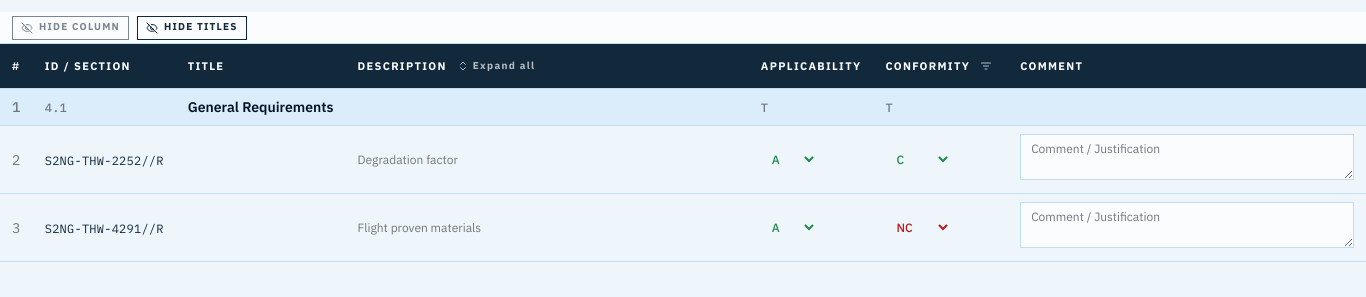
NodeTable › hides and shows the selected column
Expected: the text "S2NG-THW-2252//R" is shown, [45,152,164,168]
Expected: the button "Hide column" is disabled, [12,16,129,40]
Click the button "ID / Section" at (88,66), box [45,56,131,76]
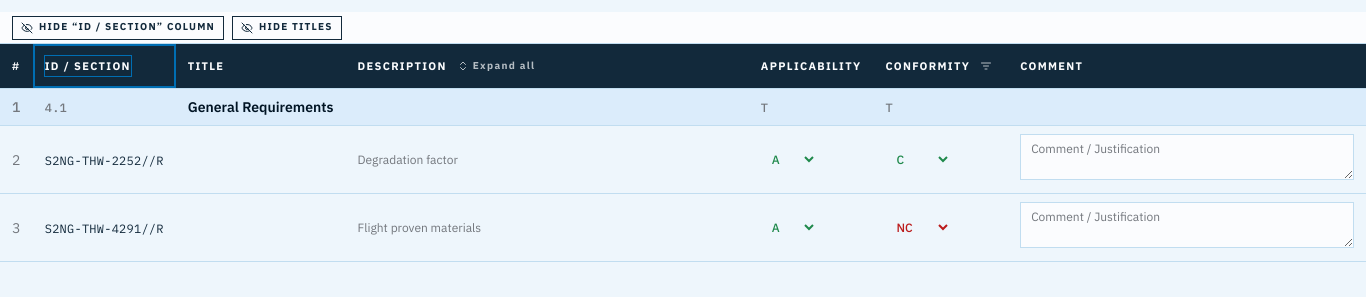
Click the button "Hide “ID / Section” column" at (118,28), box [12,16,224,40]
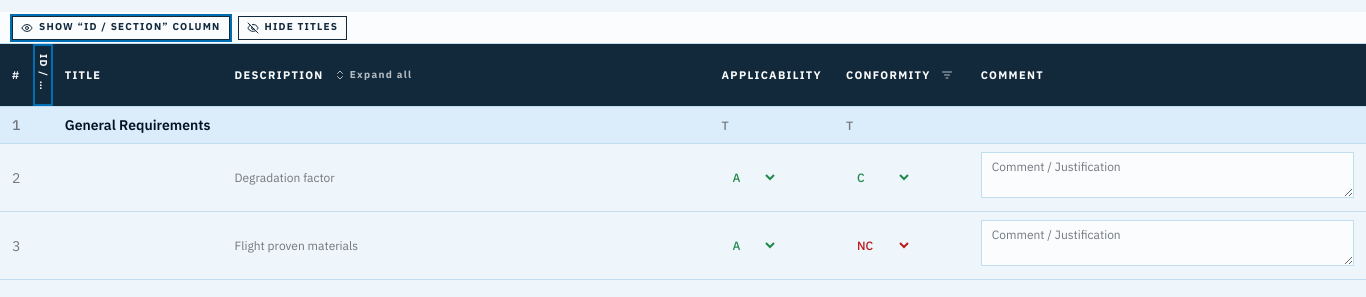
Now the text "S2NG-THW-2252//R" is gone
# The hidden column stays selected, as a strip that can be selected again after a deselect.
Click the button "ID / Section" at (43,72), box [33,54,53,90]
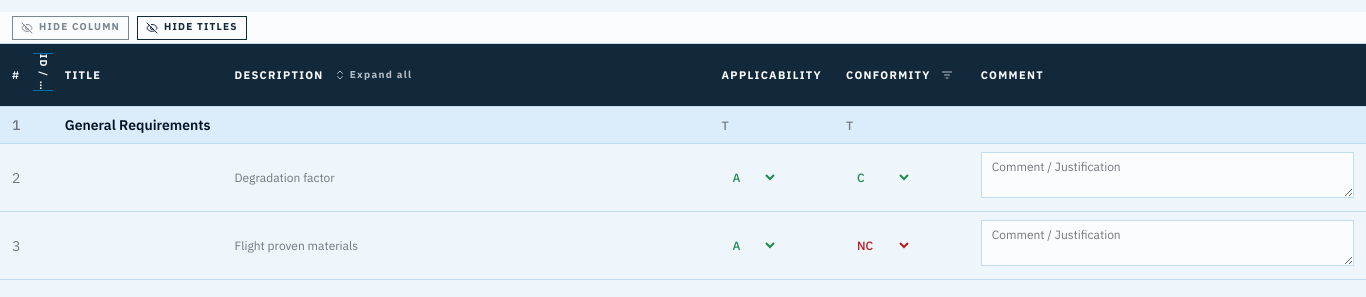
Now the button "Hide column" is disabled, box [12,16,129,40]
Click the button "ID / Section" at (43,72), box [33,54,53,90]
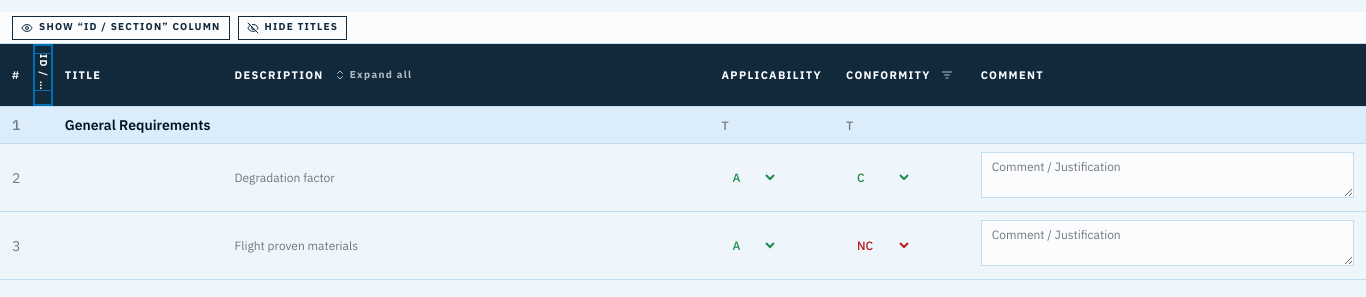
Click the button "Show “ID / Section” column" at (121,28), box [12,16,230,40]
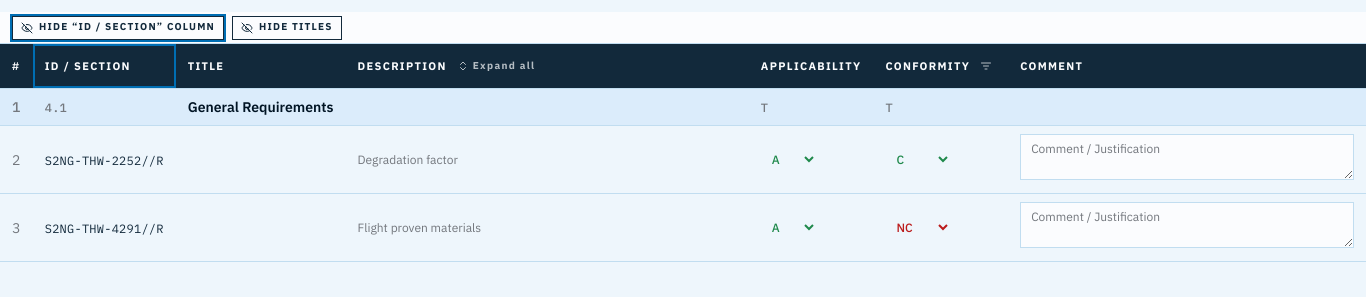
Now the text "S2NG-THW-2252//R" is shown, box [45,152,164,168]
